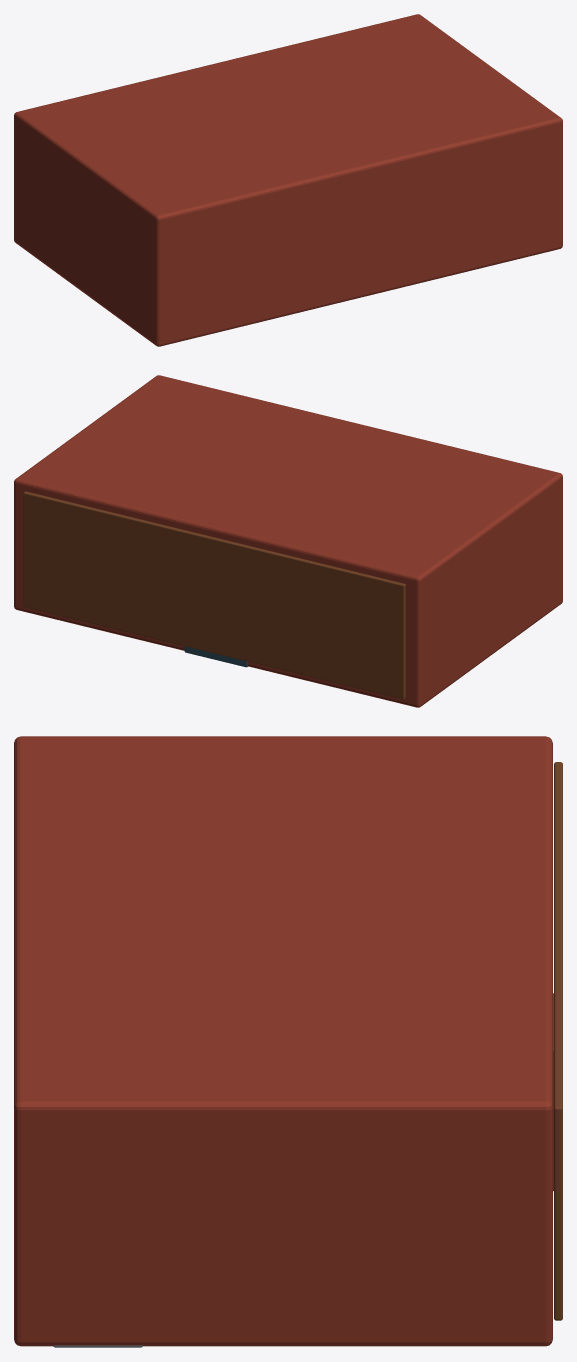
The model's file is BHC_REST_63RD_CHOPHOUSE.fbx.
The picture shows the model from 3 angles, top to bottom: view 1: azimuth 30°, elevation 25°; view 2: azimuth 150°, elevation 25°; view 3: azimuth 270°, elevation 25°; orthographic projection. The views are drawn at different scales.
Parts seen in each view (by area): view 1: SM_BHC_REST_63RD_Exterior; view 2: SM_BHC_REST_63RD_Exterior, SM_BHC_REST_63RD_FacadeTrim, SM_BHC_REST_63RD_Entrance; view 3: SM_BHC_REST_63RD_Exterior, SM_BHC_REST_63RD_FacadeTrim.
Boxes of the visible parts, x1,y1,x2,y2 form: SM_BHC_REST_63RD_Exterior: (14,14,562,346); SM_BHC_REST_63RD_Exterior: (14,375,562,707); SM_BHC_REST_63RD_FacadeTrim: (23,491,405,699); SM_BHC_REST_63RD_Entrance: (184,646,247,667); SM_BHC_REST_63RD_Exterior: (14,736,552,1346); SM_BHC_REST_63RD_FacadeTrim: (554,762,562,1320).
Size of the model in its own units: 15.6 by 4.8 by 9.78.
